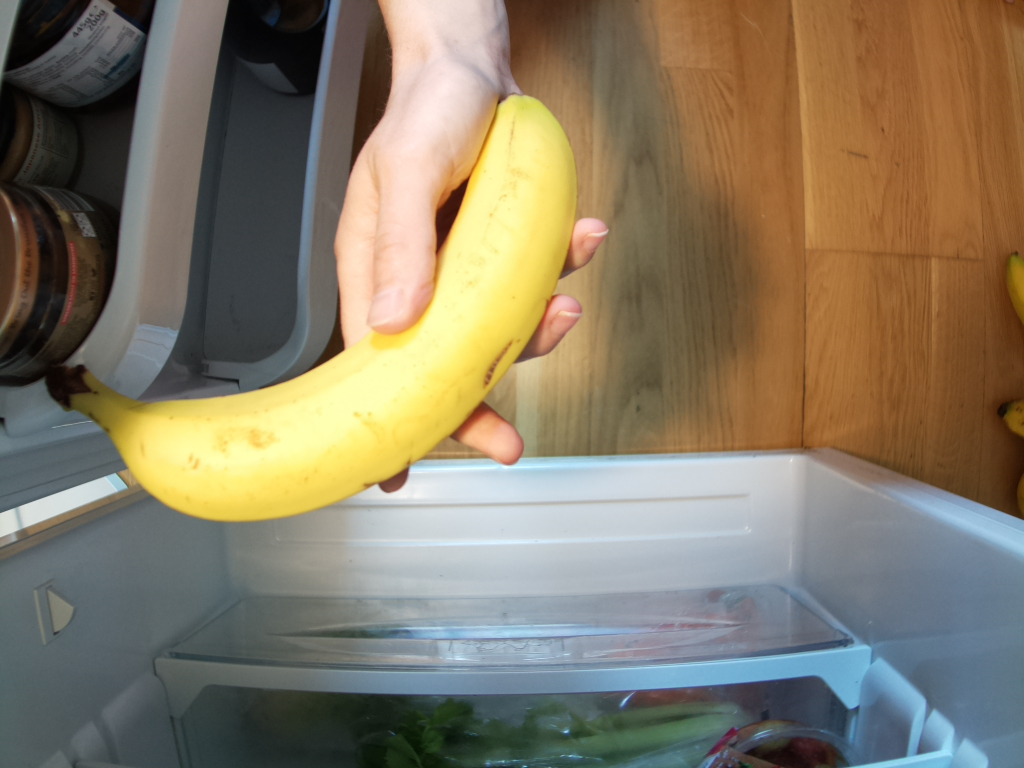banana: (49, 80, 580, 524)
